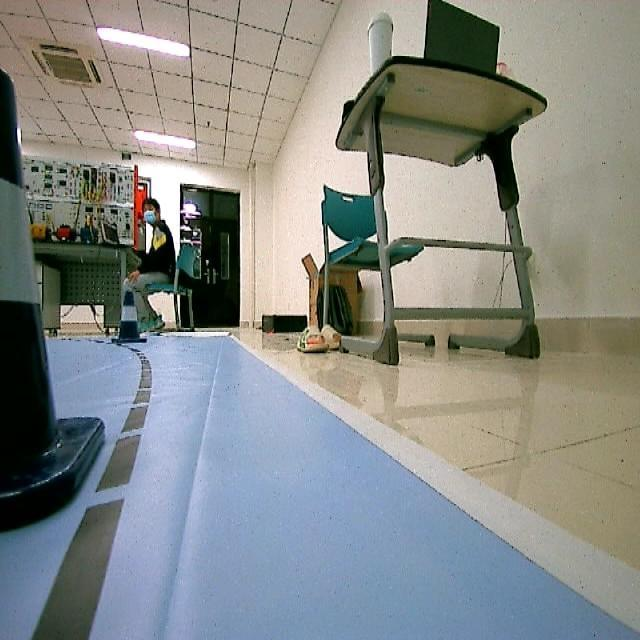obstacle: (115, 290, 148, 346)
